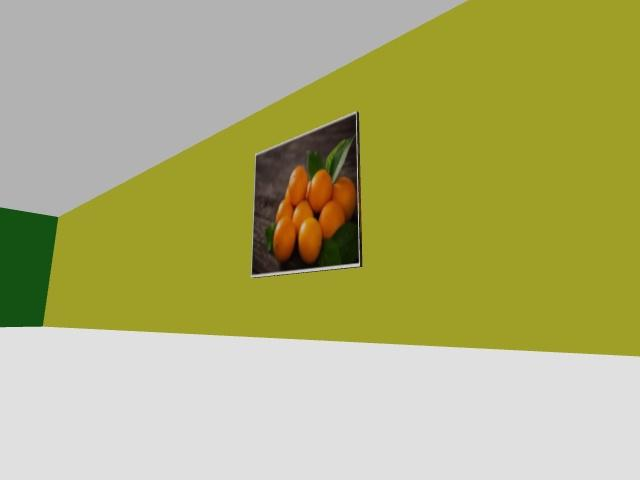orange: (299, 216, 321, 263), (332, 176, 355, 220), (273, 217, 295, 262), (308, 169, 331, 212), (320, 200, 344, 238), (289, 166, 308, 205), (292, 200, 313, 233), (276, 198, 292, 222), (283, 187, 292, 204), (305, 179, 310, 198)
